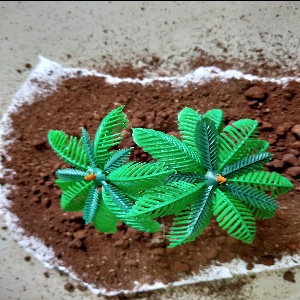plant: (45, 77, 295, 245)
